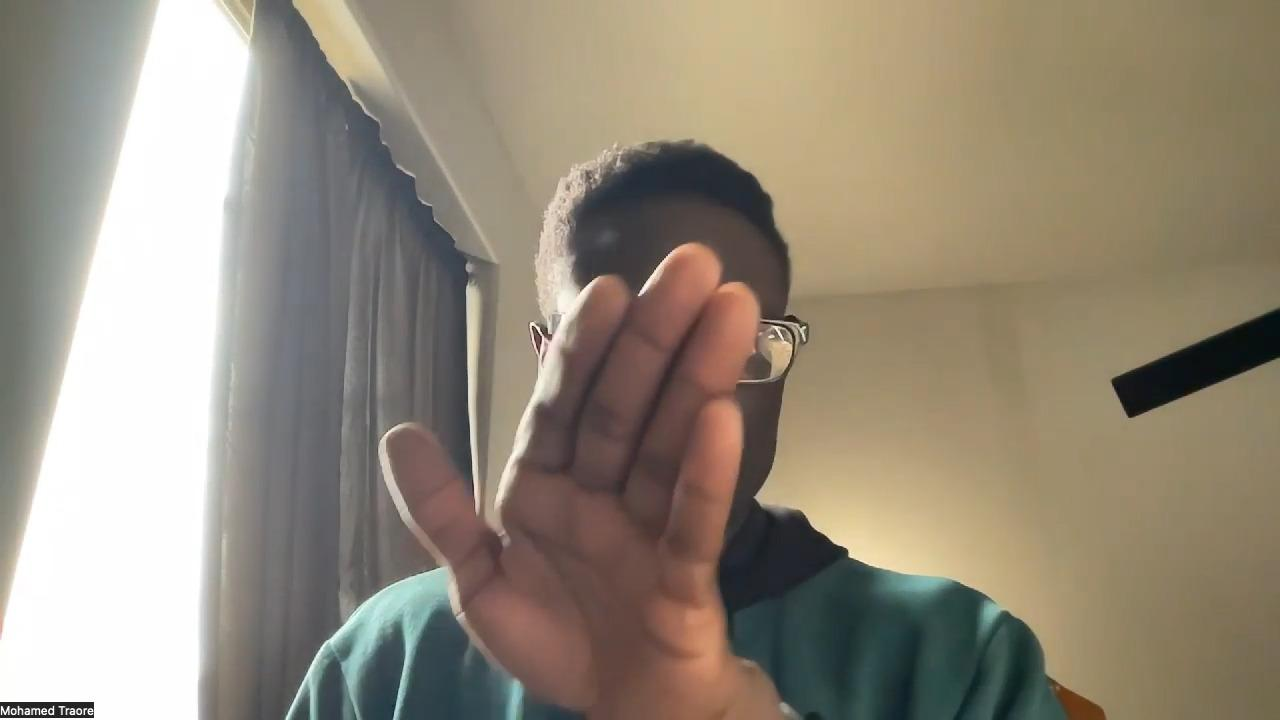Paper: (380, 240, 763, 720)
